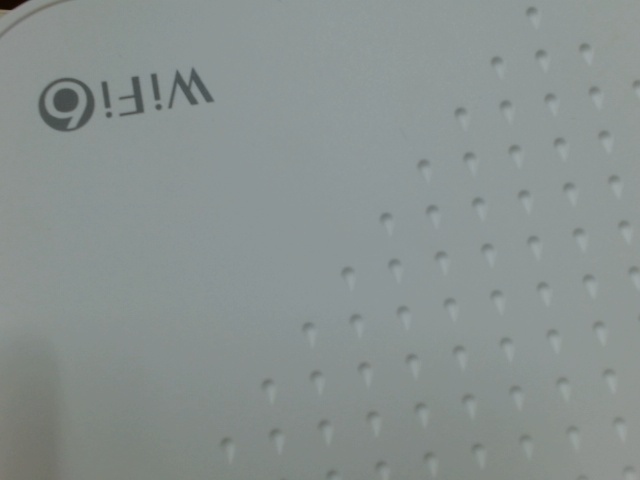AK_ZTEWIFI6: (28, 62, 222, 140)
